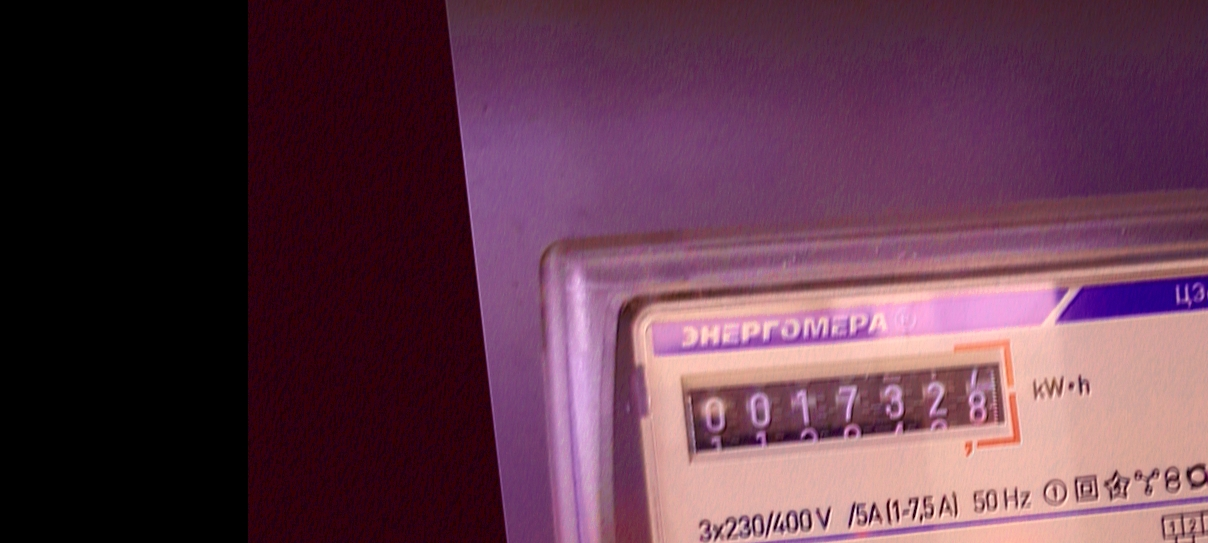0: (700, 394, 730, 436), (747, 390, 774, 430)
1: (792, 386, 814, 428)
2: (923, 379, 950, 418)
3: (882, 382, 908, 421)
7: (836, 383, 862, 424)
8: (966, 388, 989, 425)
screen: (669, 335, 1033, 490)
